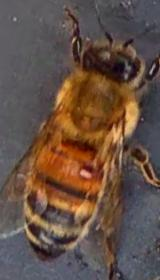varroa_mite: (70, 152, 104, 186)
